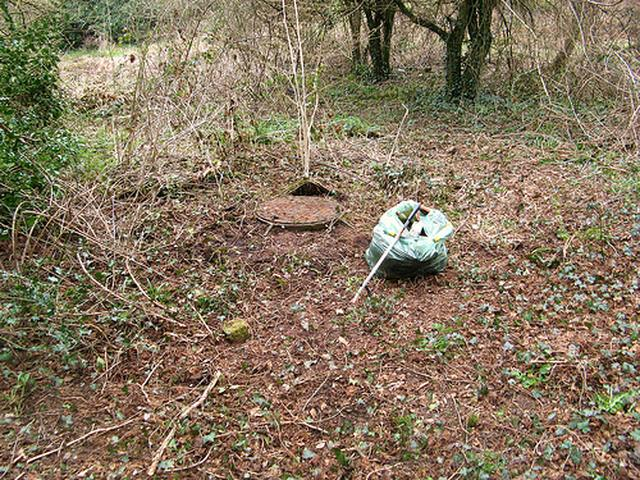garbage: (376, 212, 442, 270)
